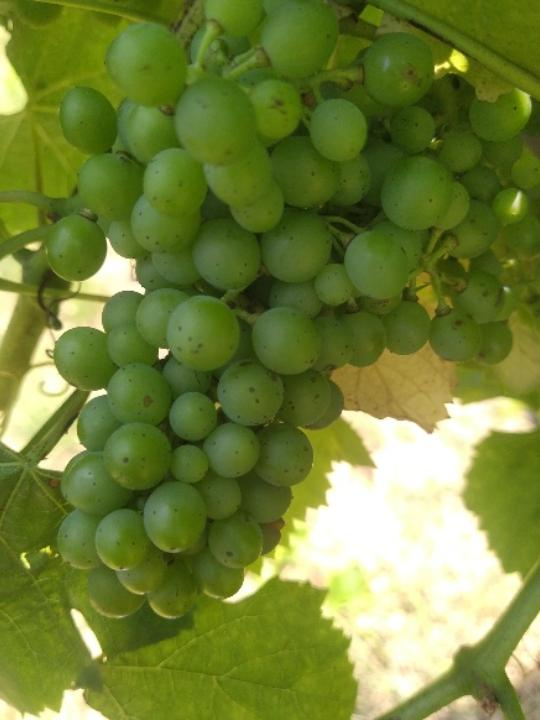grape: (37, 0, 540, 628)
